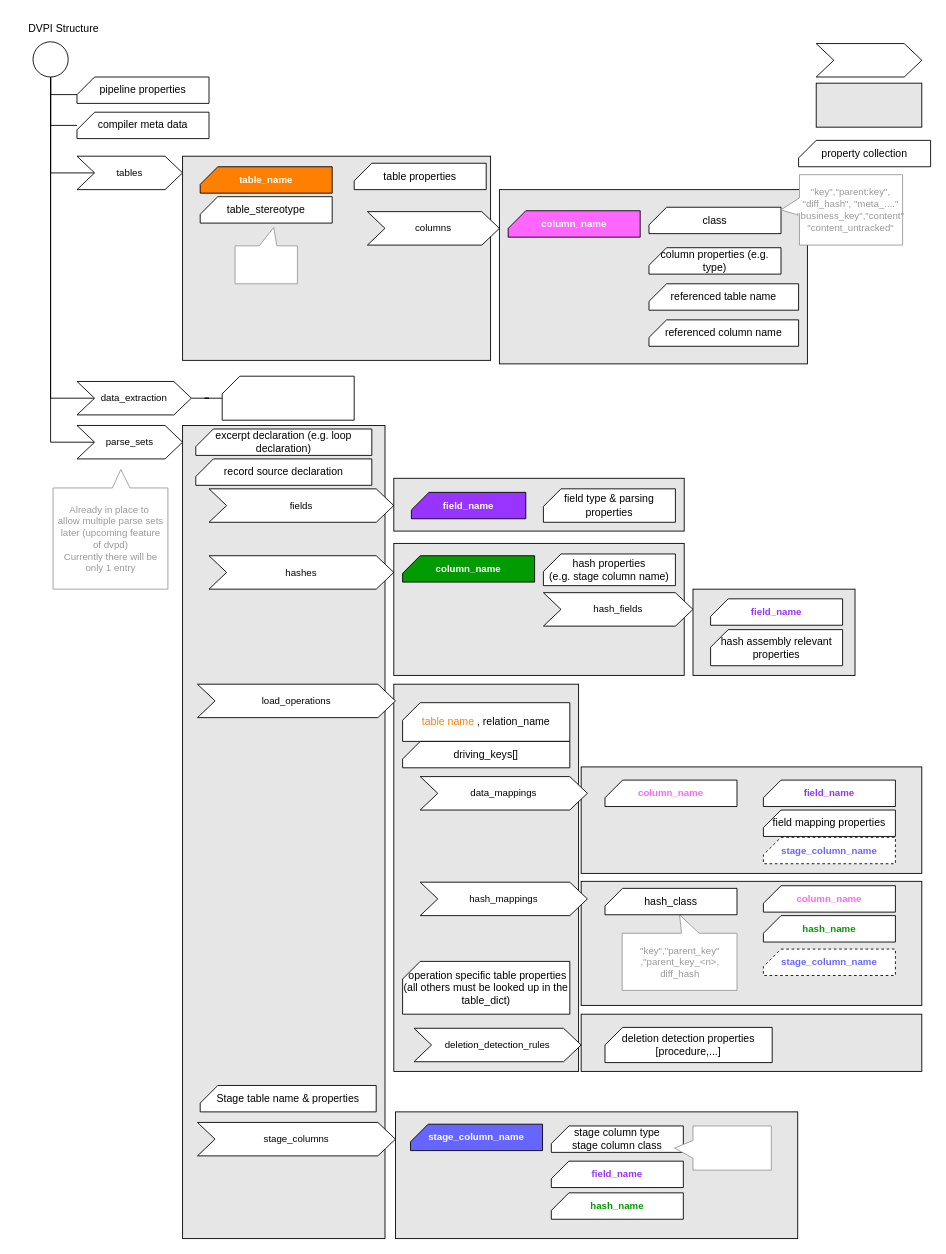
The diagram is 946 pixels wide and 1254 high, and some of its shapes have lost their labels. The shapes that lost their labels are listed below. From the top down, each one's box as (x1, y1, x2, y2) in pixels, then its label:
(815, 43, 922, 77): key for a sub object
(815, 82, 922, 127): array element
(234, 227, 297, 284): "hub","lnk", "sat","ref"
(221, 375, 354, 420): extraction specific declaration (e.g. incremtent method)
(674, 1125, 771, 1170): "data","hash"
